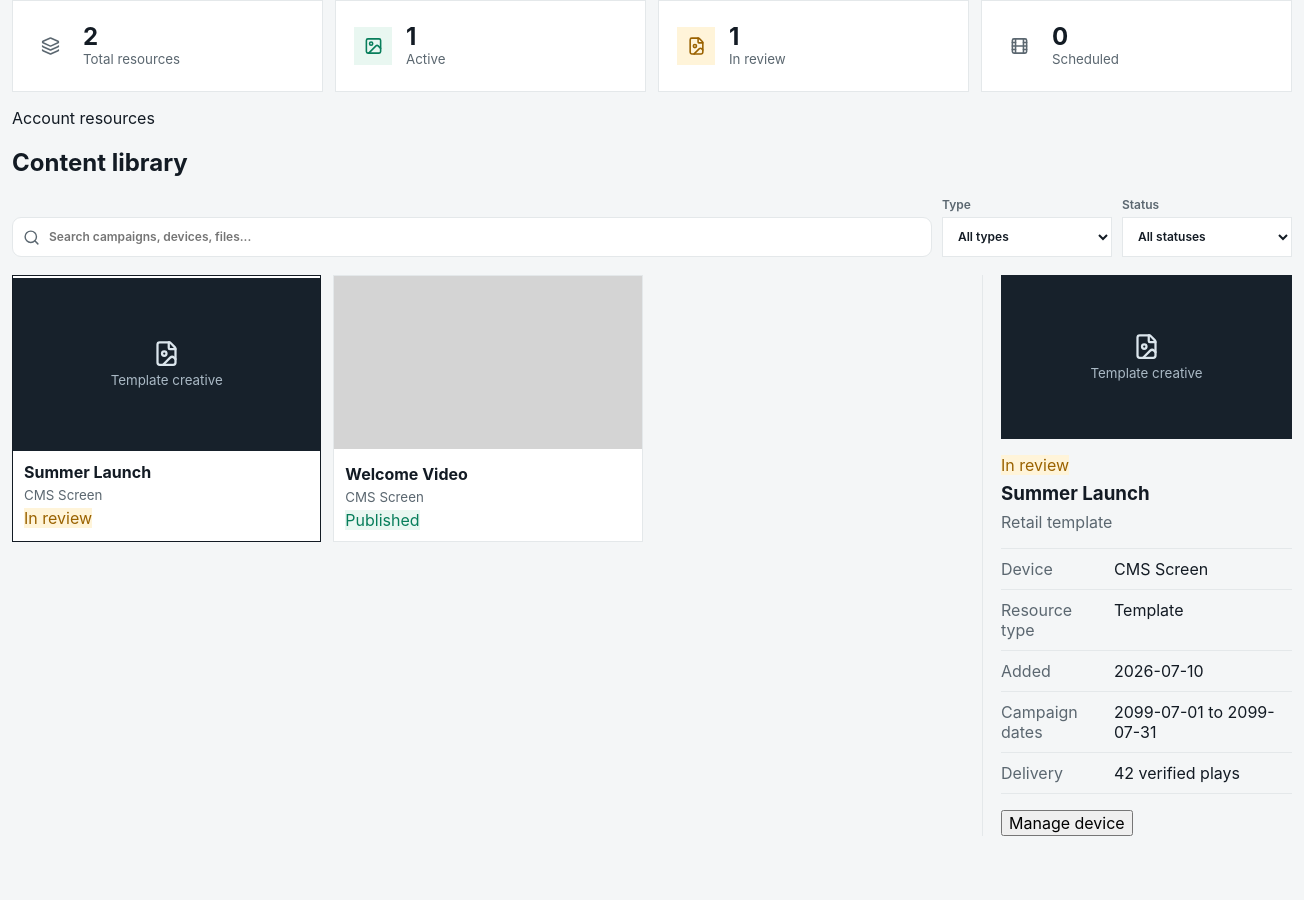
content library visualizes account resources and filters by status
Expected: the text "Summer Launch" is shown, [24, 462, 151, 482]
Expected: the text "Welcome Video" is shown, [345, 464, 468, 484]
Select "In review" in the dropdown named "Filter by status" at (1207, 237), box [1122, 217, 1292, 257]
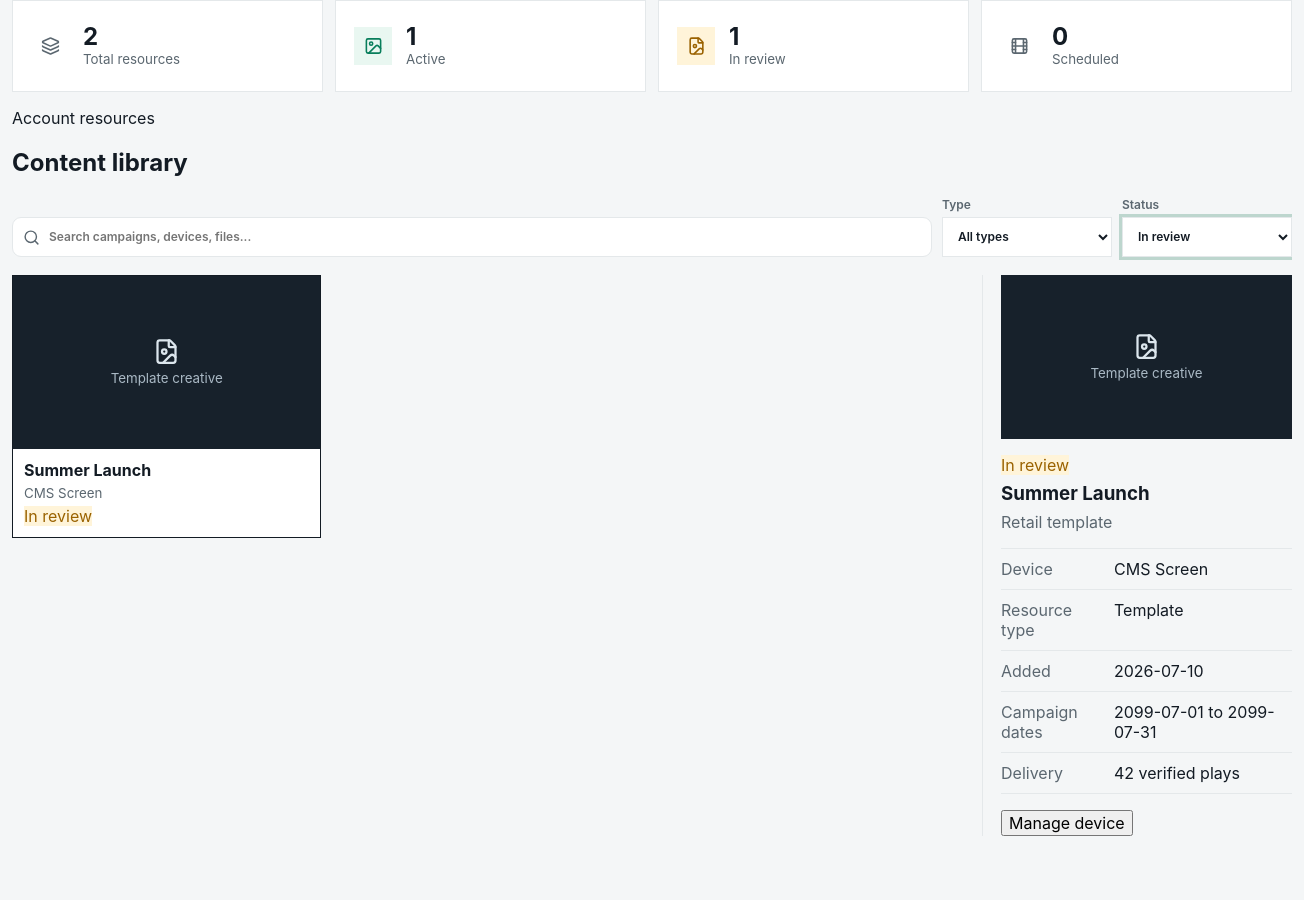
Expected: the text "Summer Launch" is shown, [24, 460, 151, 480]
Expected: the button "Welcome Video" is gone
Type "summer" into the field named "Search resources".
click(472, 237); type("summer")  # box [12, 217, 932, 257]
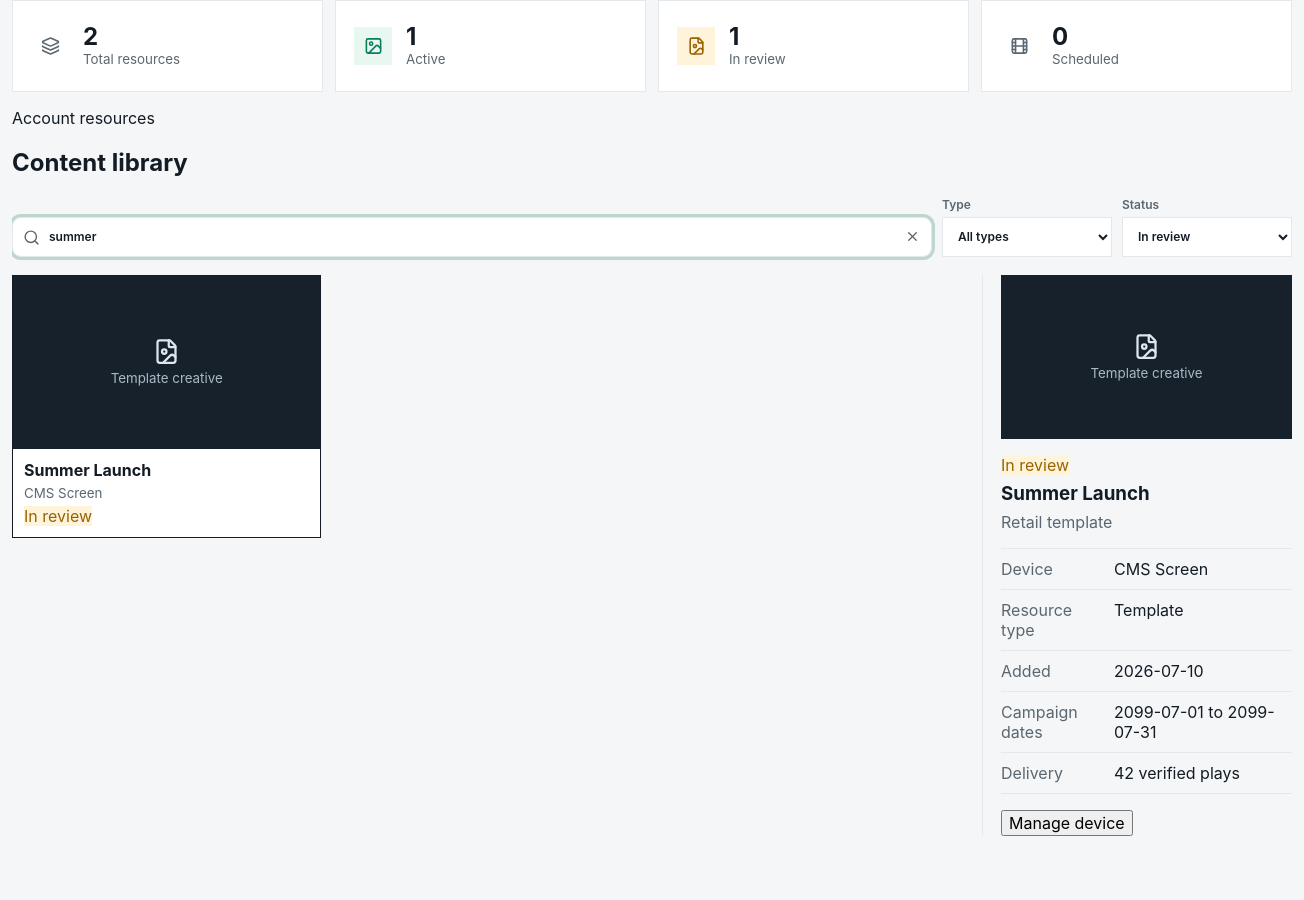
Click the button named "Clear resource search".
click(912, 237)  # box [897, 222, 927, 252]
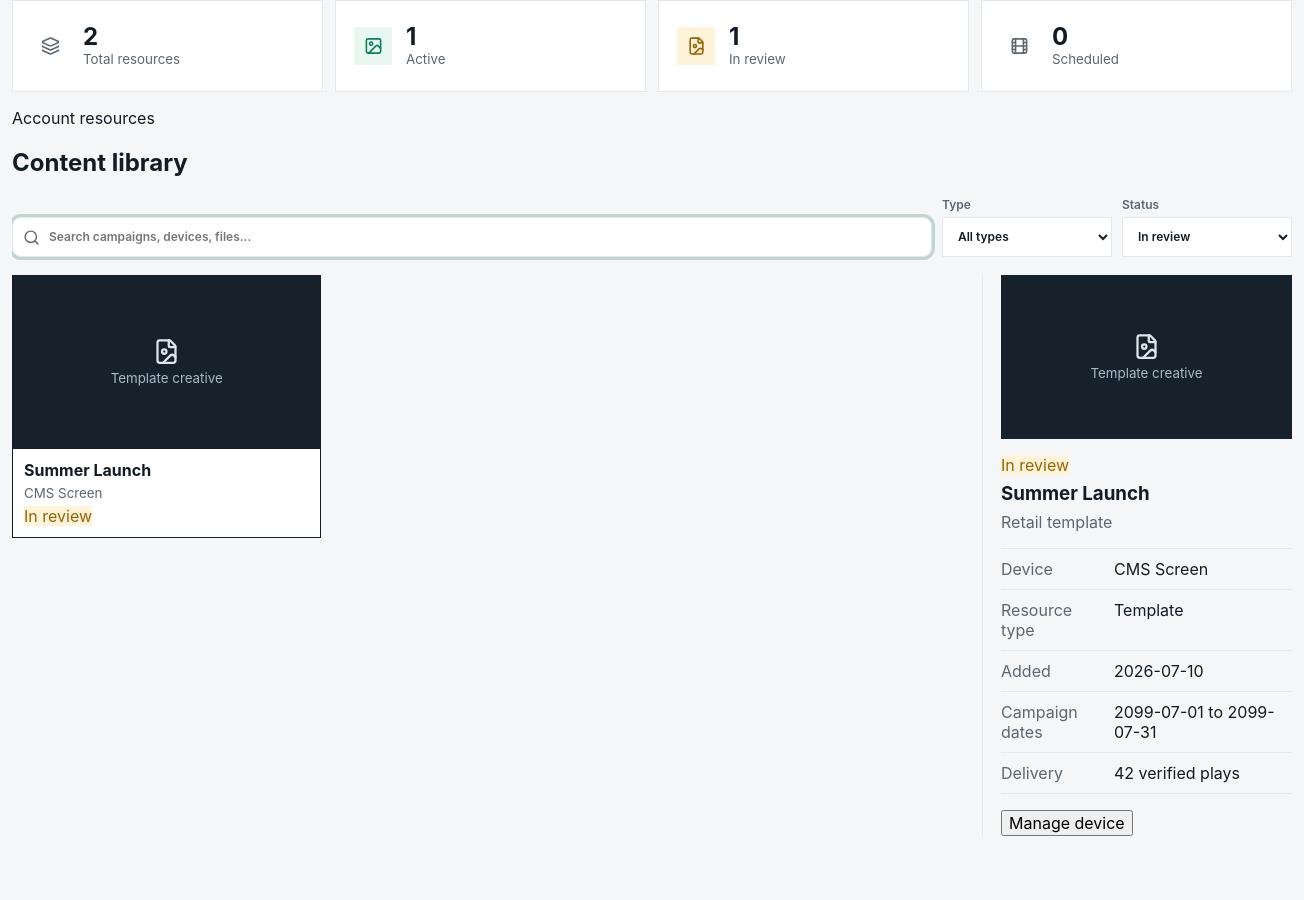
Expected: the field named "Search resources" is empty, [12, 217, 932, 257]
